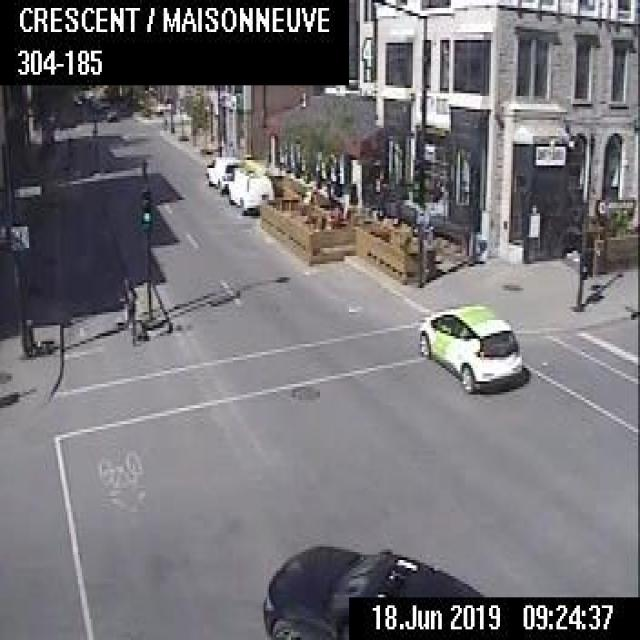cyclist: (118, 274, 136, 344)
vehicle: (258, 539, 484, 637), (416, 301, 522, 392), (227, 164, 273, 210), (204, 154, 242, 192)
